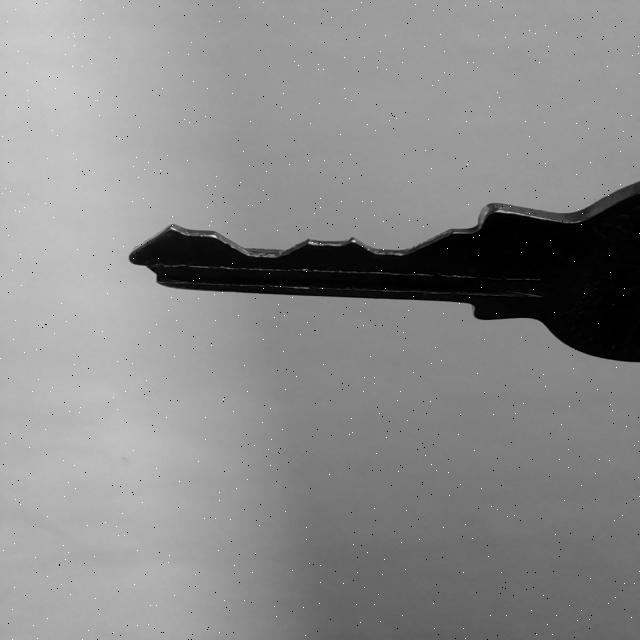key: (129, 183, 639, 362)
